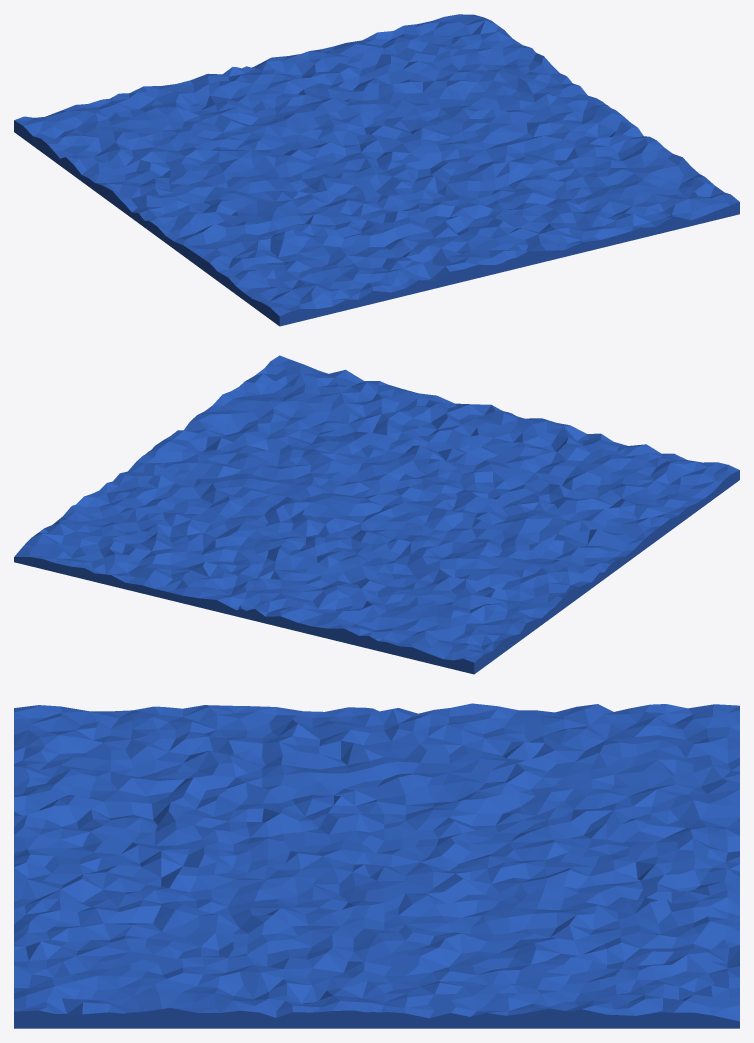
File: lake_mountain.gltf
3 renders of one model, top to bottom at view 1: azimuth 30°, elevation 25°; view 2: azimuth 150°, elevation 25°; view 3: azimuth 270°, elevation 25°, orthographic. The views are drawn at different scales.
Parts seen in each view (by area): view 1: Plane; view 2: Plane; view 3: Plane.
Part boxes in pixels (bbox=[...]): Plane: bbox=[14, 14, 739, 326]; Plane: bbox=[14, 355, 739, 674]; Plane: bbox=[14, 703, 739, 1028].
Bounding box in the file's own units: 300 × 10.8 × 300.
